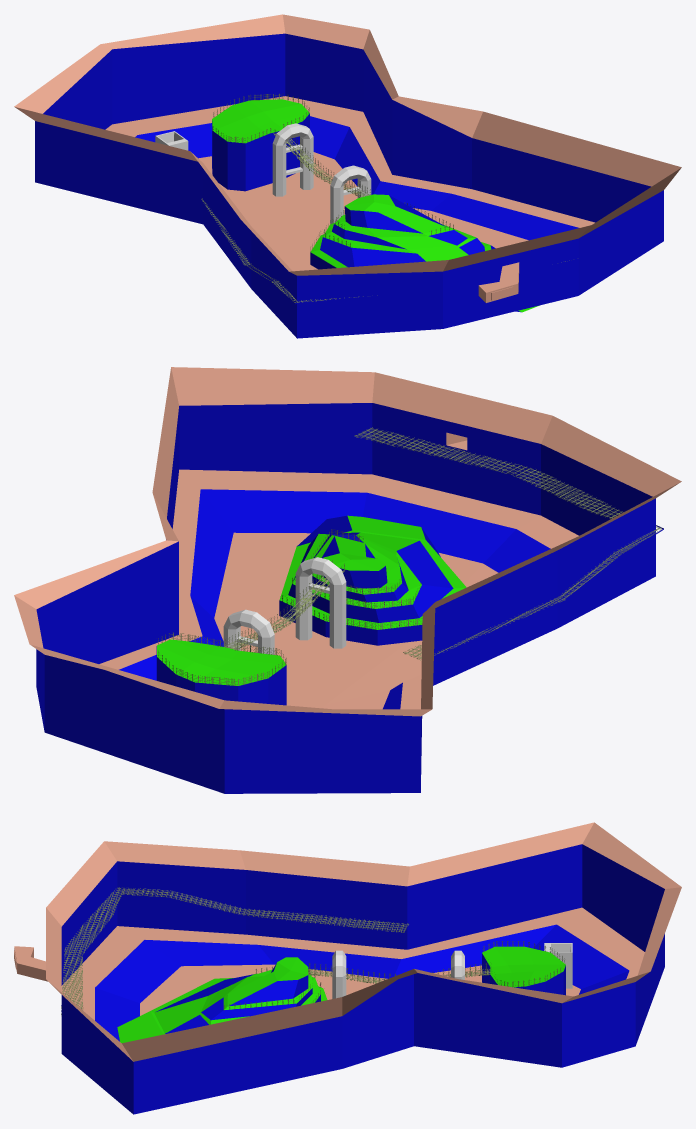
The model's file is TownE.fbx.
The picture shows the model from 3 angles, top to bottom: view 1: azimuth 30°, elevation 25°; view 2: azimuth 150°, elevation 25°; view 3: azimuth 270°, elevation 25°; orthographic projection. The views are drawn at different scales.
Parts seen in each view (by area): view 1: TownEMesh, Fence; view 2: TownEMesh, Fence; view 3: TownEMesh, Fence.
Boxes of the visible parts, box(x1,y1,x2,y2) form: TownEMesh: box(14, 14, 681, 338); Fence: box(213, 93, 453, 251); TownEMesh: box(14, 367, 681, 793); Fence: box(158, 529, 422, 685); TownEMesh: box(14, 822, 681, 1114); Fence: box(224, 941, 564, 1010).
Size of the model in its own units: 36466 by 7423 by 46588.
